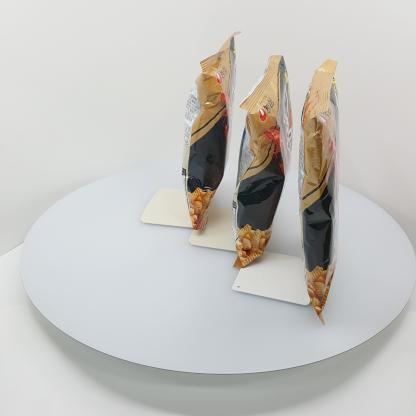Plastic Packaging: (173, 25, 234, 249), (235, 52, 288, 270), (300, 54, 338, 326)
